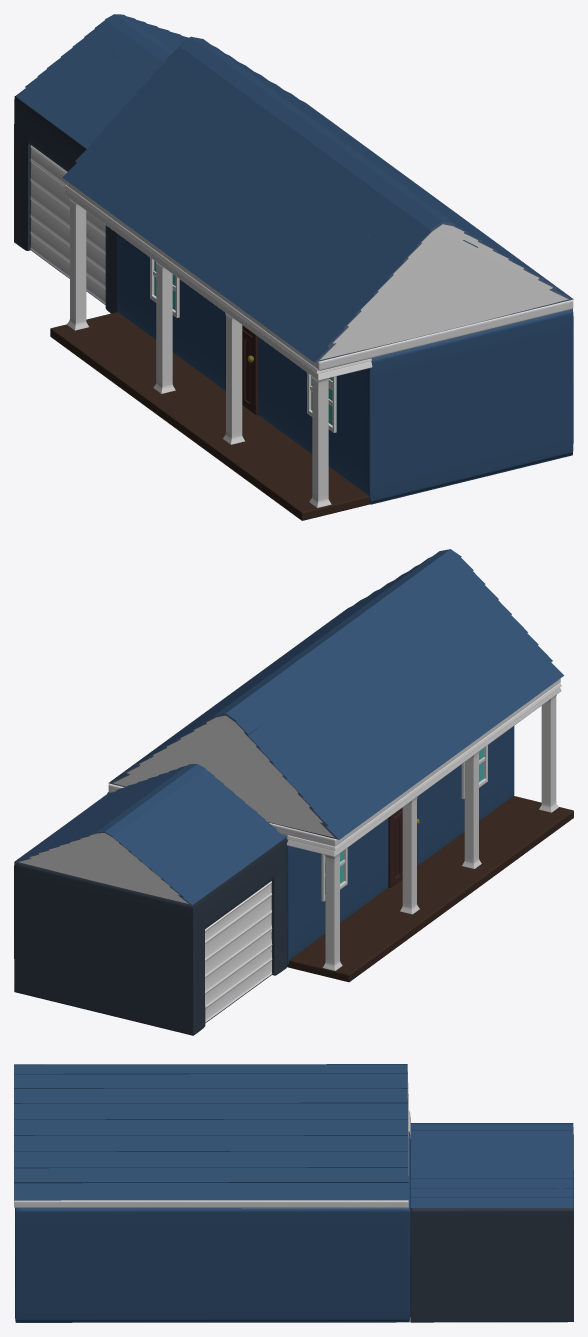
File: House_New.fbx
3 renders of one model, top to bottom at view 1: azimuth 30°, elevation 25°; view 2: azimuth 150°, elevation 25°; view 3: azimuth 270°, elevation 25°, orthographic. The views are drawn at different scales.
Visible parts, largest first — view 1: pPrism1, pCube1, pCube12, pPrism2, pCube19, pCube2, pCube15, pCube13, pCube9, pCube14, pCube7, pCube5 (+2 smaller); view 2: pPrism1, pCube19, pPrism2, pCube12, pCube1, pCube15, pCube9, pCube13, pCube14, pCube2, pCube7, pCube5 (+1 smaller); view 3: pPrism1, pCube1, pCube19, pPrism2, pCube2.
Boxes of the visible parts, box(x1,y1,x2,y2) form: pPrism1: box(62, 36, 573, 362); pCube1: box(117, 233, 573, 504); pCube12: box(50, 312, 370, 520); pPrism2: box(16, 14, 188, 148); pCube19: box(14, 96, 117, 313); pCube2: box(67, 181, 573, 370); pCube15: box(309, 376, 331, 507); pCube13: box(153, 262, 175, 393); pCube9: box(67, 198, 88, 330); pCube14: box(223, 312, 244, 444); pCube7: box(64, 190, 372, 380); pCube5: box(64, 185, 371, 373); pPrism1: box(108, 549, 563, 839); pCube19: box(14, 834, 286, 1035); pPrism2: box(15, 764, 285, 905); pCube12: box(288, 796, 573, 982); pCube1: box(107, 726, 514, 967); pCube15: box(539, 694, 558, 812); pCube9: box(322, 853, 342, 970); pCube13: box(400, 796, 419, 914); pCube14: box(462, 751, 481, 868); pCube2: box(108, 678, 560, 846); pCube7: box(286, 687, 561, 856); pCube5: box(287, 683, 561, 850); pPrism1: box(14, 1064, 408, 1200); pCube1: box(15, 1131, 410, 1322); pCube19: box(410, 1134, 573, 1322); pPrism2: box(410, 1123, 573, 1207); pCube2: box(14, 1200, 408, 1208).
Size of the model in its own units: 10.24 by 9.63 by 23.44.
